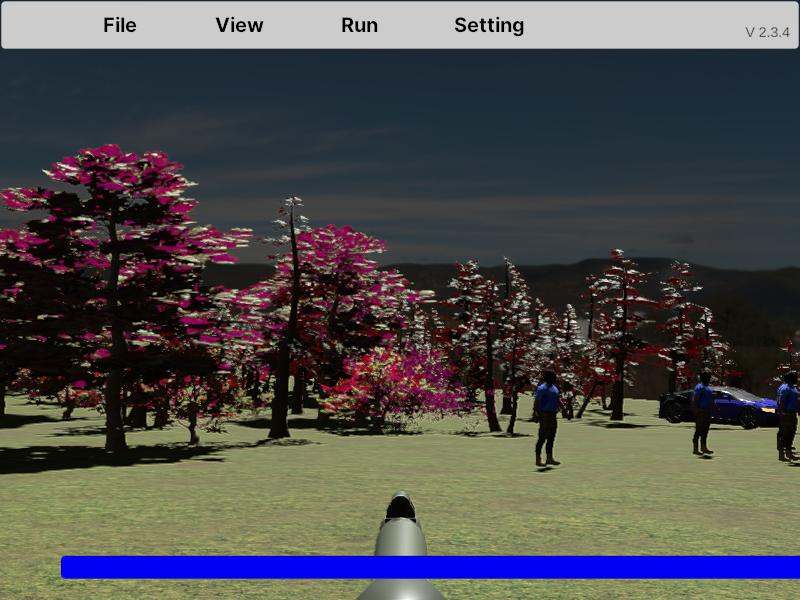Human: (532, 370, 569, 468), (774, 372, 800, 463), (775, 370, 800, 461), (690, 370, 716, 456)
car: (658, 386, 792, 429)
